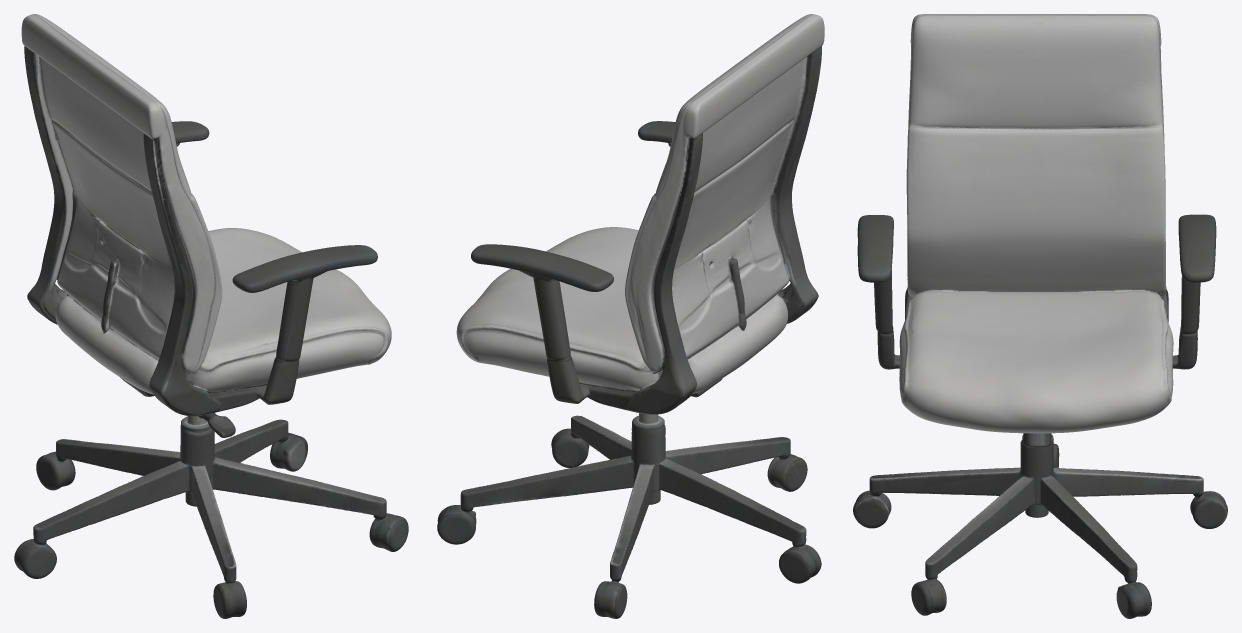
Rendered from modern_office_chair_padded_08.glb.
3 views of the same model, side by side, from view 1: azimuth 30°, elevation 25°; view 2: azimuth 150°, elevation 25°; view 3: azimuth 270°, elevation 25° (orthographic). The views are drawn at different scales.
Visible parts, largest first — view 1: tripo_node_942ff0c8-de9f-4a7d-adc8-14487d49b0e3; view 2: tripo_node_942ff0c8-de9f-4a7d-adc8-14487d49b0e3; view 3: tripo_node_942ff0c8-de9f-4a7d-adc8-14487d49b0e3.
Part boxes in pixels (left/top/right/bottom): tripo_node_942ff0c8-de9f-4a7d-adc8-14487d49b0e3: left=14, top=14, right=408, bottom=618; tripo_node_942ff0c8-de9f-4a7d-adc8-14487d49b0e3: left=437, top=14, right=824, bottom=618; tripo_node_942ff0c8-de9f-4a7d-adc8-14487d49b0e3: left=853, top=14, right=1227, bottom=618.
Bounding box in the file's own units: 0.6894 × 1 × 0.6988.
1 material, 1 textured.
